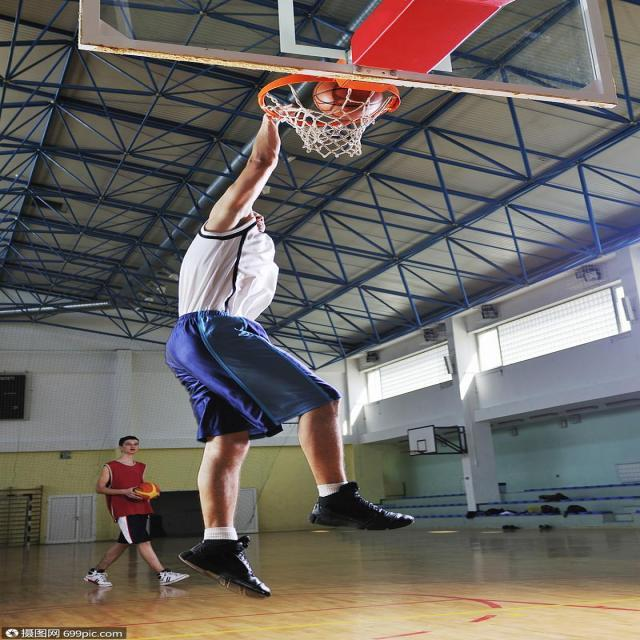rim: (310, 73, 382, 119)
